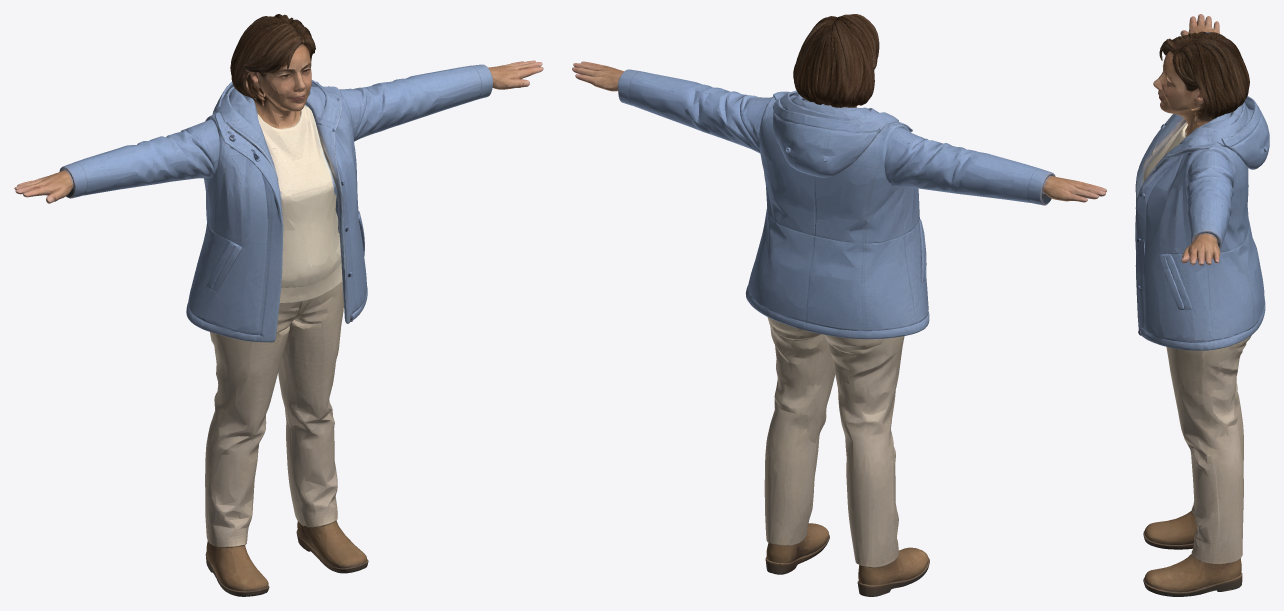
Rendered from character_n09_generated.glb.
3 renders of one model, left to right at view 1: azimuth 30°, elevation 25°; view 2: azimuth 150°, elevation 25°; view 3: azimuth 270°, elevation 25°, orthographic. The views are drawn at different scales.
Bounding box in the file's own units: 1.9 × 1.89 × 0.4333.
Materials: 1 (1 with a texture image).
